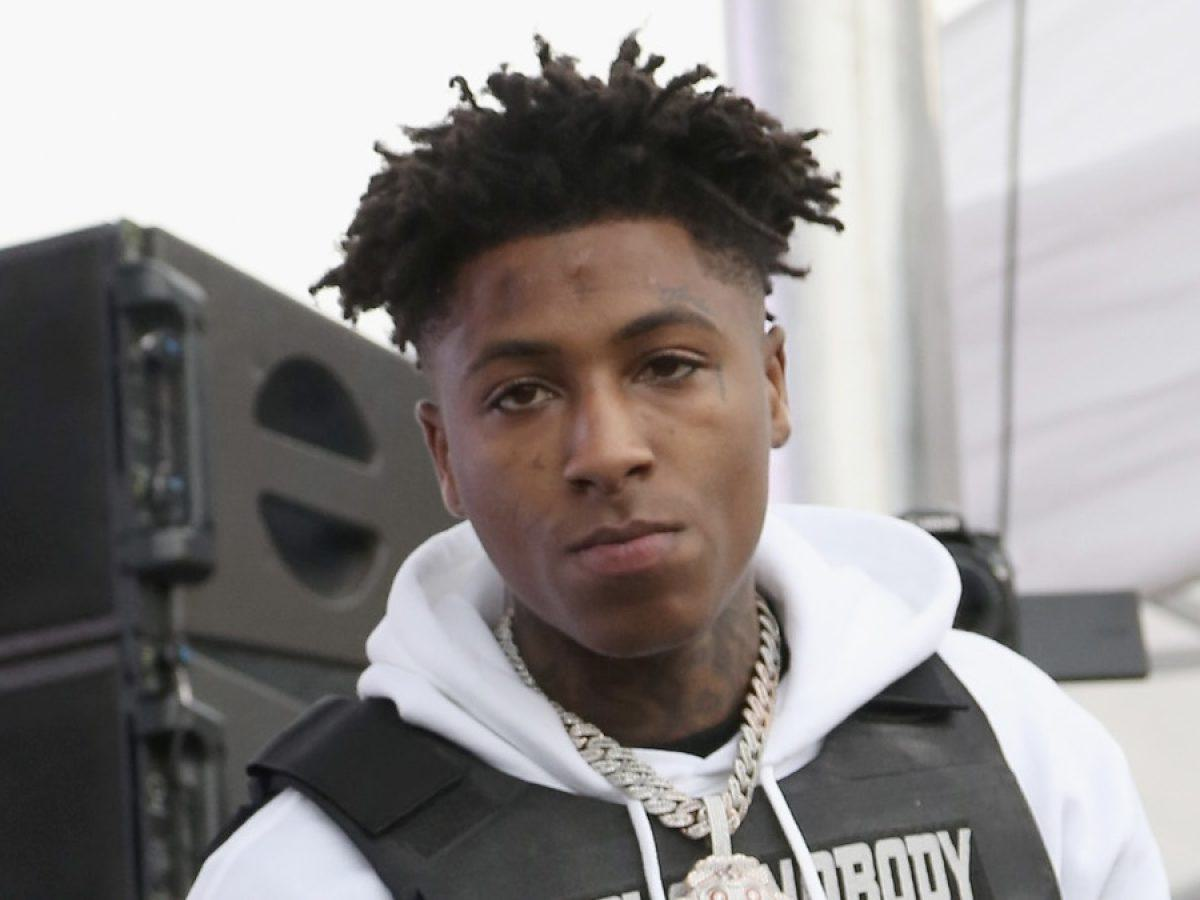quandale-dingle: (396, 130, 810, 664)
